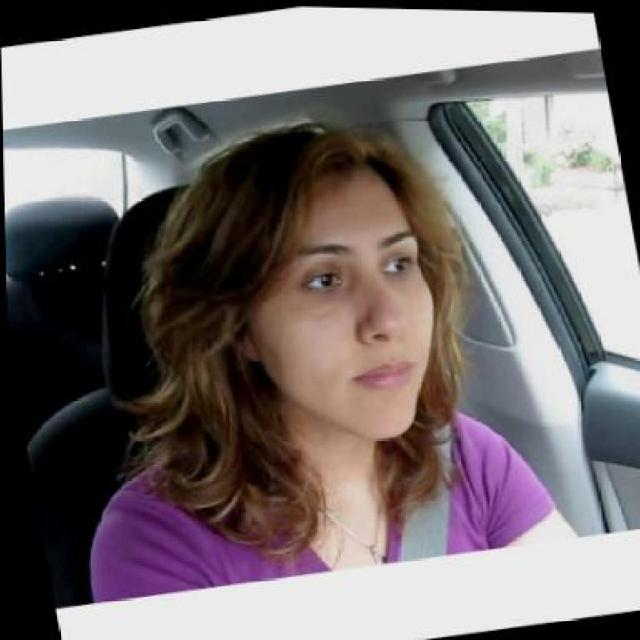attentif: (196, 105, 455, 458)
